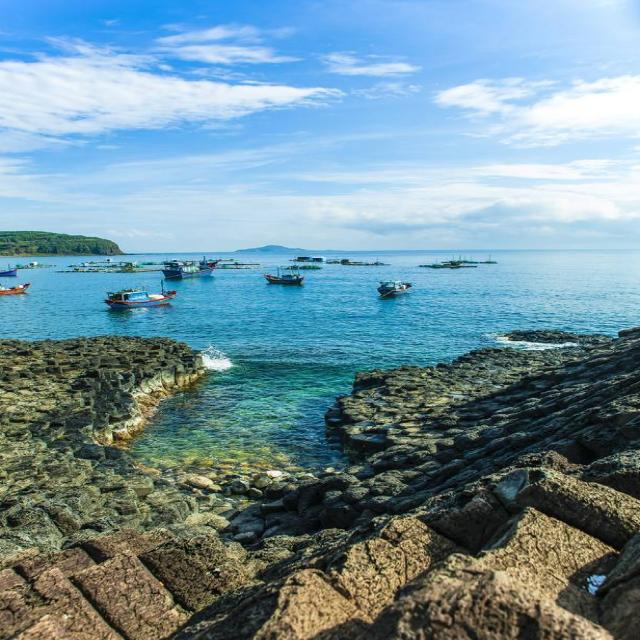fishing boat: (83, 286, 193, 318), (372, 275, 422, 300), (268, 264, 318, 288), (0, 258, 38, 284), (0, 278, 46, 298)
reef: (0, 346, 214, 450)
